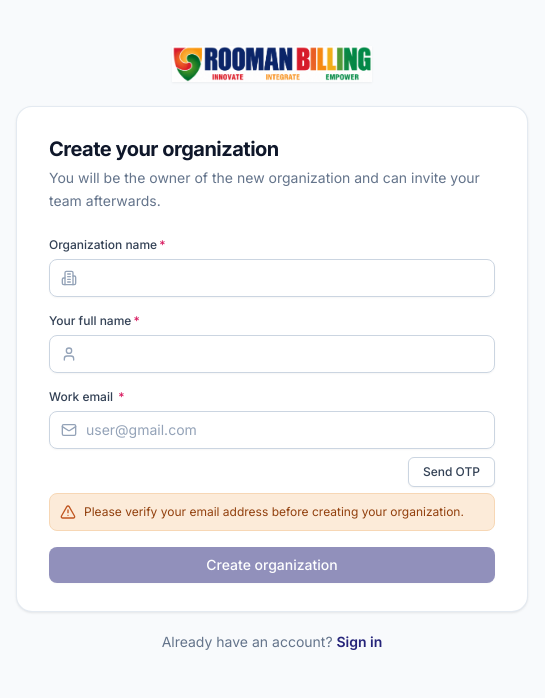
Test: SignupPage: email OTP first, password after verification › validates the required details when clicking Send OTP
Click the button "Send OTP": (452,472) x1=408 y1=457 x2=495 y2=487
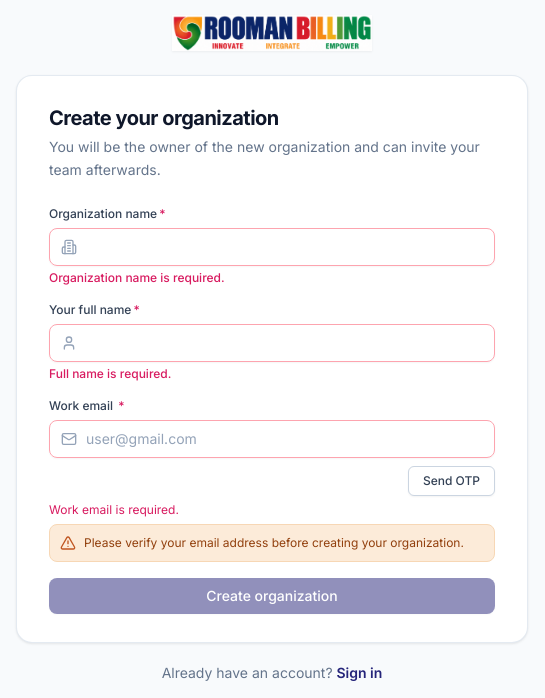
expect the text "Organization name is required." is shown: met, box x1=49 y1=270 x2=225 y2=285
expect the text "Full name is required." is shown: met, box x1=49 y1=366 x2=171 y2=381
expect the text "Work email is required." is shown: met, box x1=49 y1=502 x2=179 y2=517
